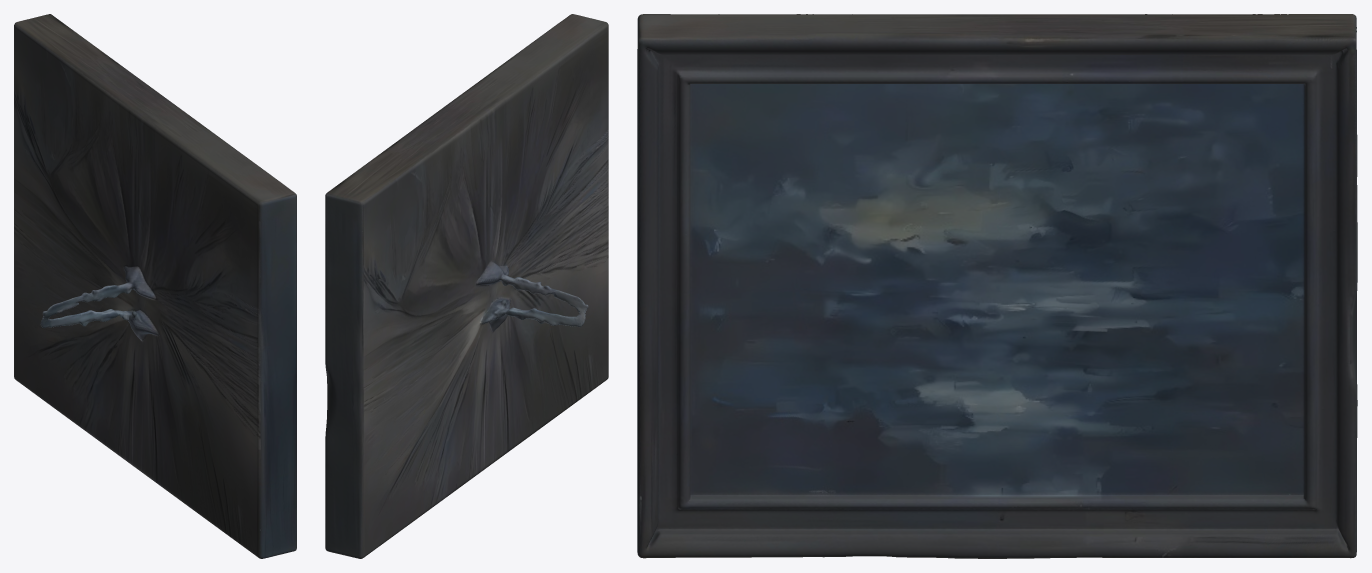
File: ventana1.glb
The picture shows the model from 3 angles, left to right: view 1: azimuth 30°, elevation 25°; view 2: azimuth 150°, elevation 25°; view 3: azimuth 270°, elevation 25°; orthographic projection. The views are drawn at different scales.
Visible parts, largest first — view 1: tripo_node_8a570ba9-3194-424f-a1bd-07c2eabcbe75; view 2: tripo_node_8a570ba9-3194-424f-a1bd-07c2eabcbe75; view 3: tripo_node_8a570ba9-3194-424f-a1bd-07c2eabcbe75.
Boxes of the visible parts, <box> form: tripo_node_8a570ba9-3194-424f-a1bd-07c2eabcbe75: <box>14,14,296,558</box>; tripo_node_8a570ba9-3194-424f-a1bd-07c2eabcbe75: <box>325,14,608,558</box>; tripo_node_8a570ba9-3194-424f-a1bd-07c2eabcbe75: <box>637,14,1357,558</box>.
Size of the model in its own units: 0.3182 by 0.8048 by 1.
Materials: 1 (1 with a texture image).
